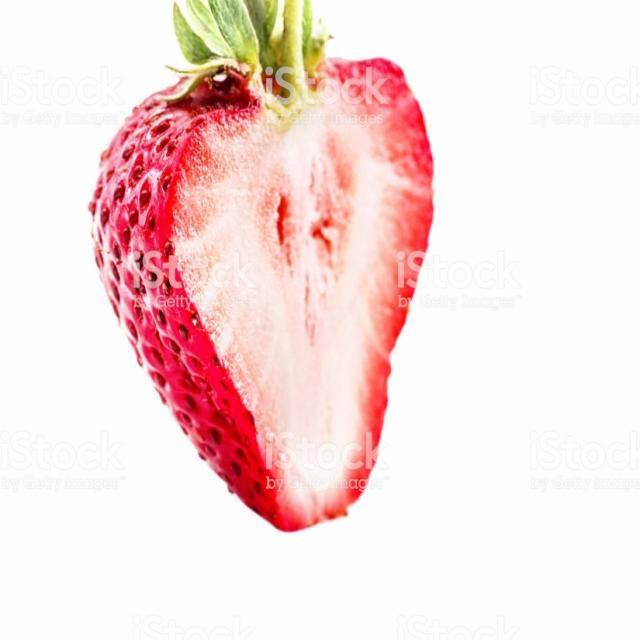strawberry: (75, 0, 454, 539)
